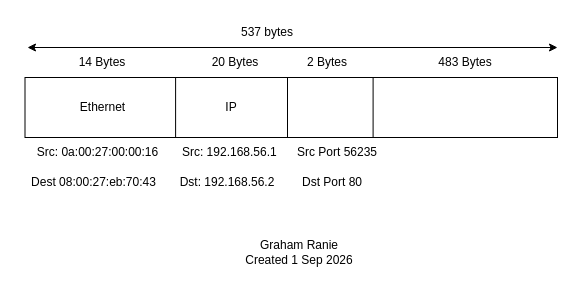
Some shapes in this 585 by 284 pixel diagram are drawn without their labels. Here are the shapes that lost their labels. From the top down, the centre of each, then its label:
the point at 332,107: TCP
the point at 465,107: HTP
